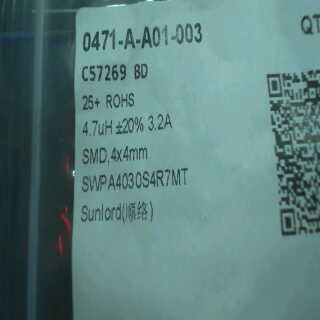4.7uH: (82, 113, 112, 143)
